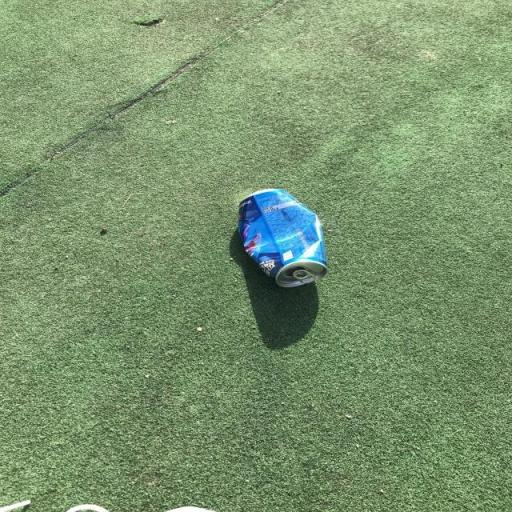metal: (217, 180, 358, 307)
